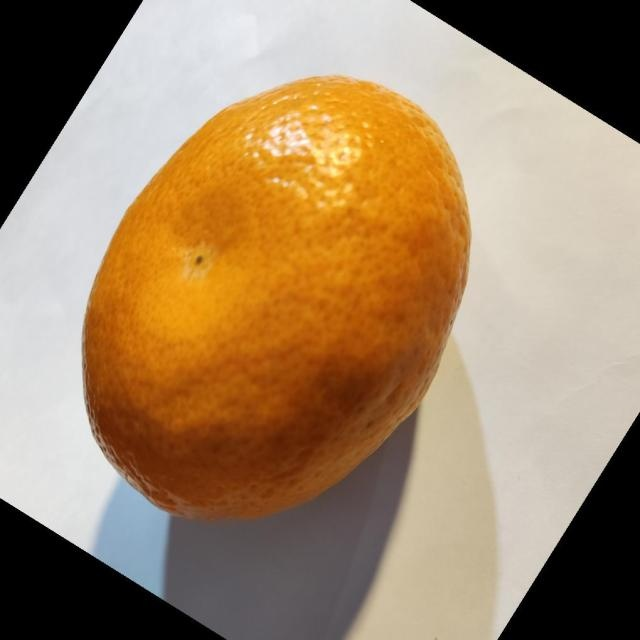agrume: (80, 73, 472, 521)
